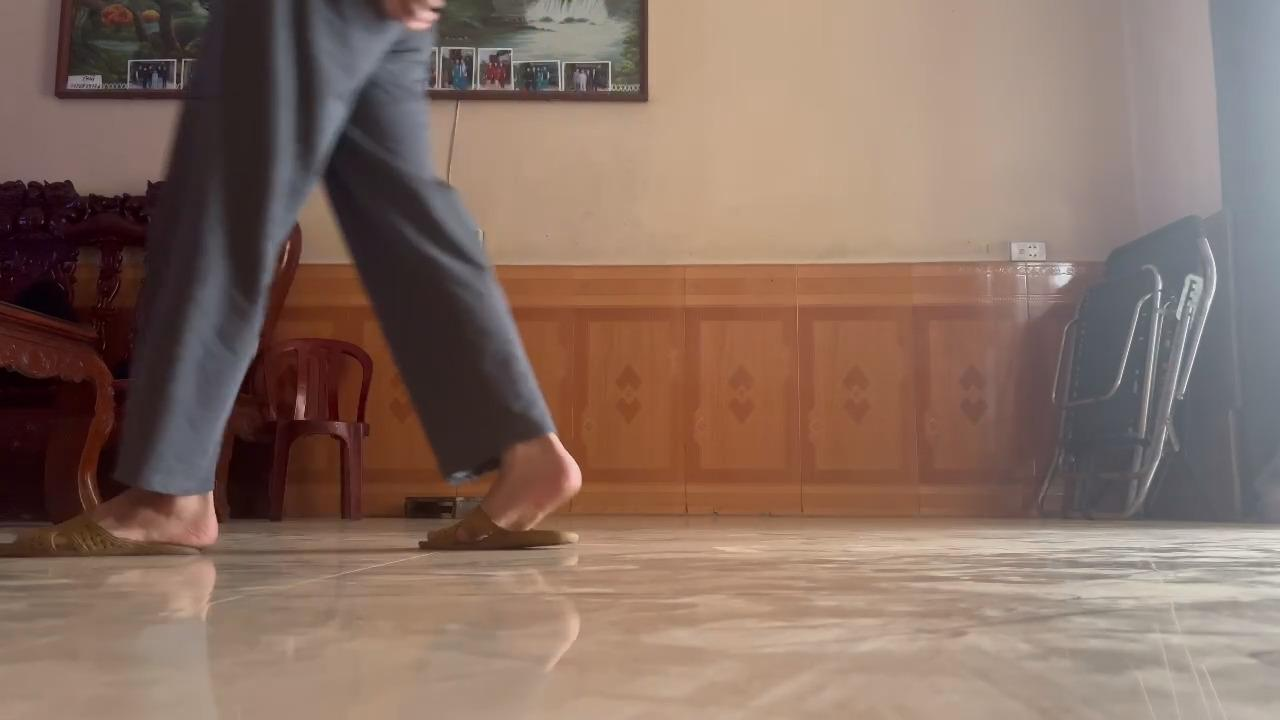no-boot: (403, 446, 596, 561), (1, 487, 237, 569)
